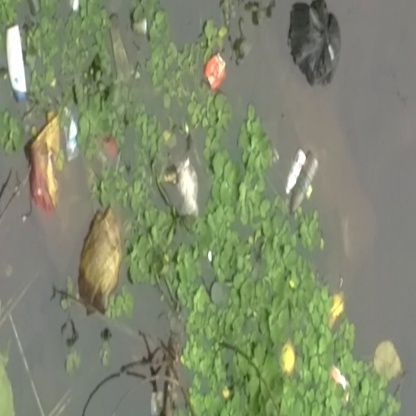plastic-garbage: (289, 1, 345, 89), (20, 112, 63, 211), (163, 147, 205, 225)
